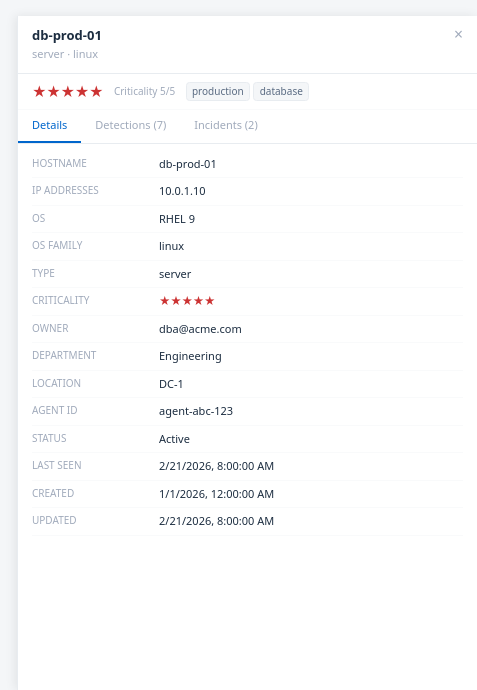
Test: AssetPanel › Detections tab › shows error message when detection fetch fails
Click the button "Detections (7)".
click(131, 127)  # box x1=81 y1=110 x2=180 y2=143
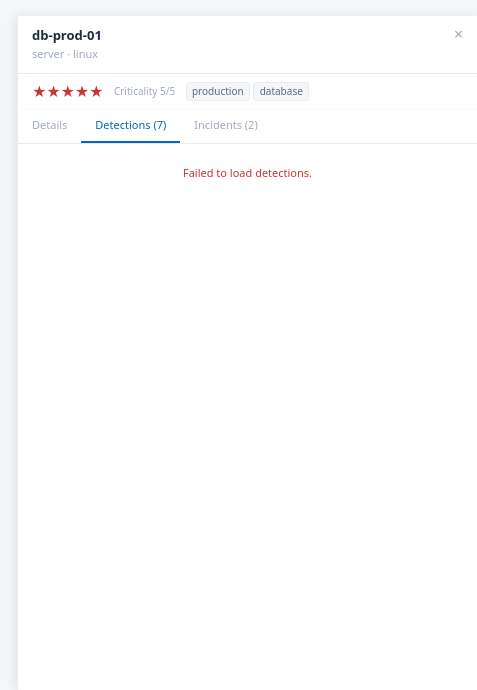
Now the text "Failed to load detections." is shown, box x1=183 y1=165 x2=312 y2=180
